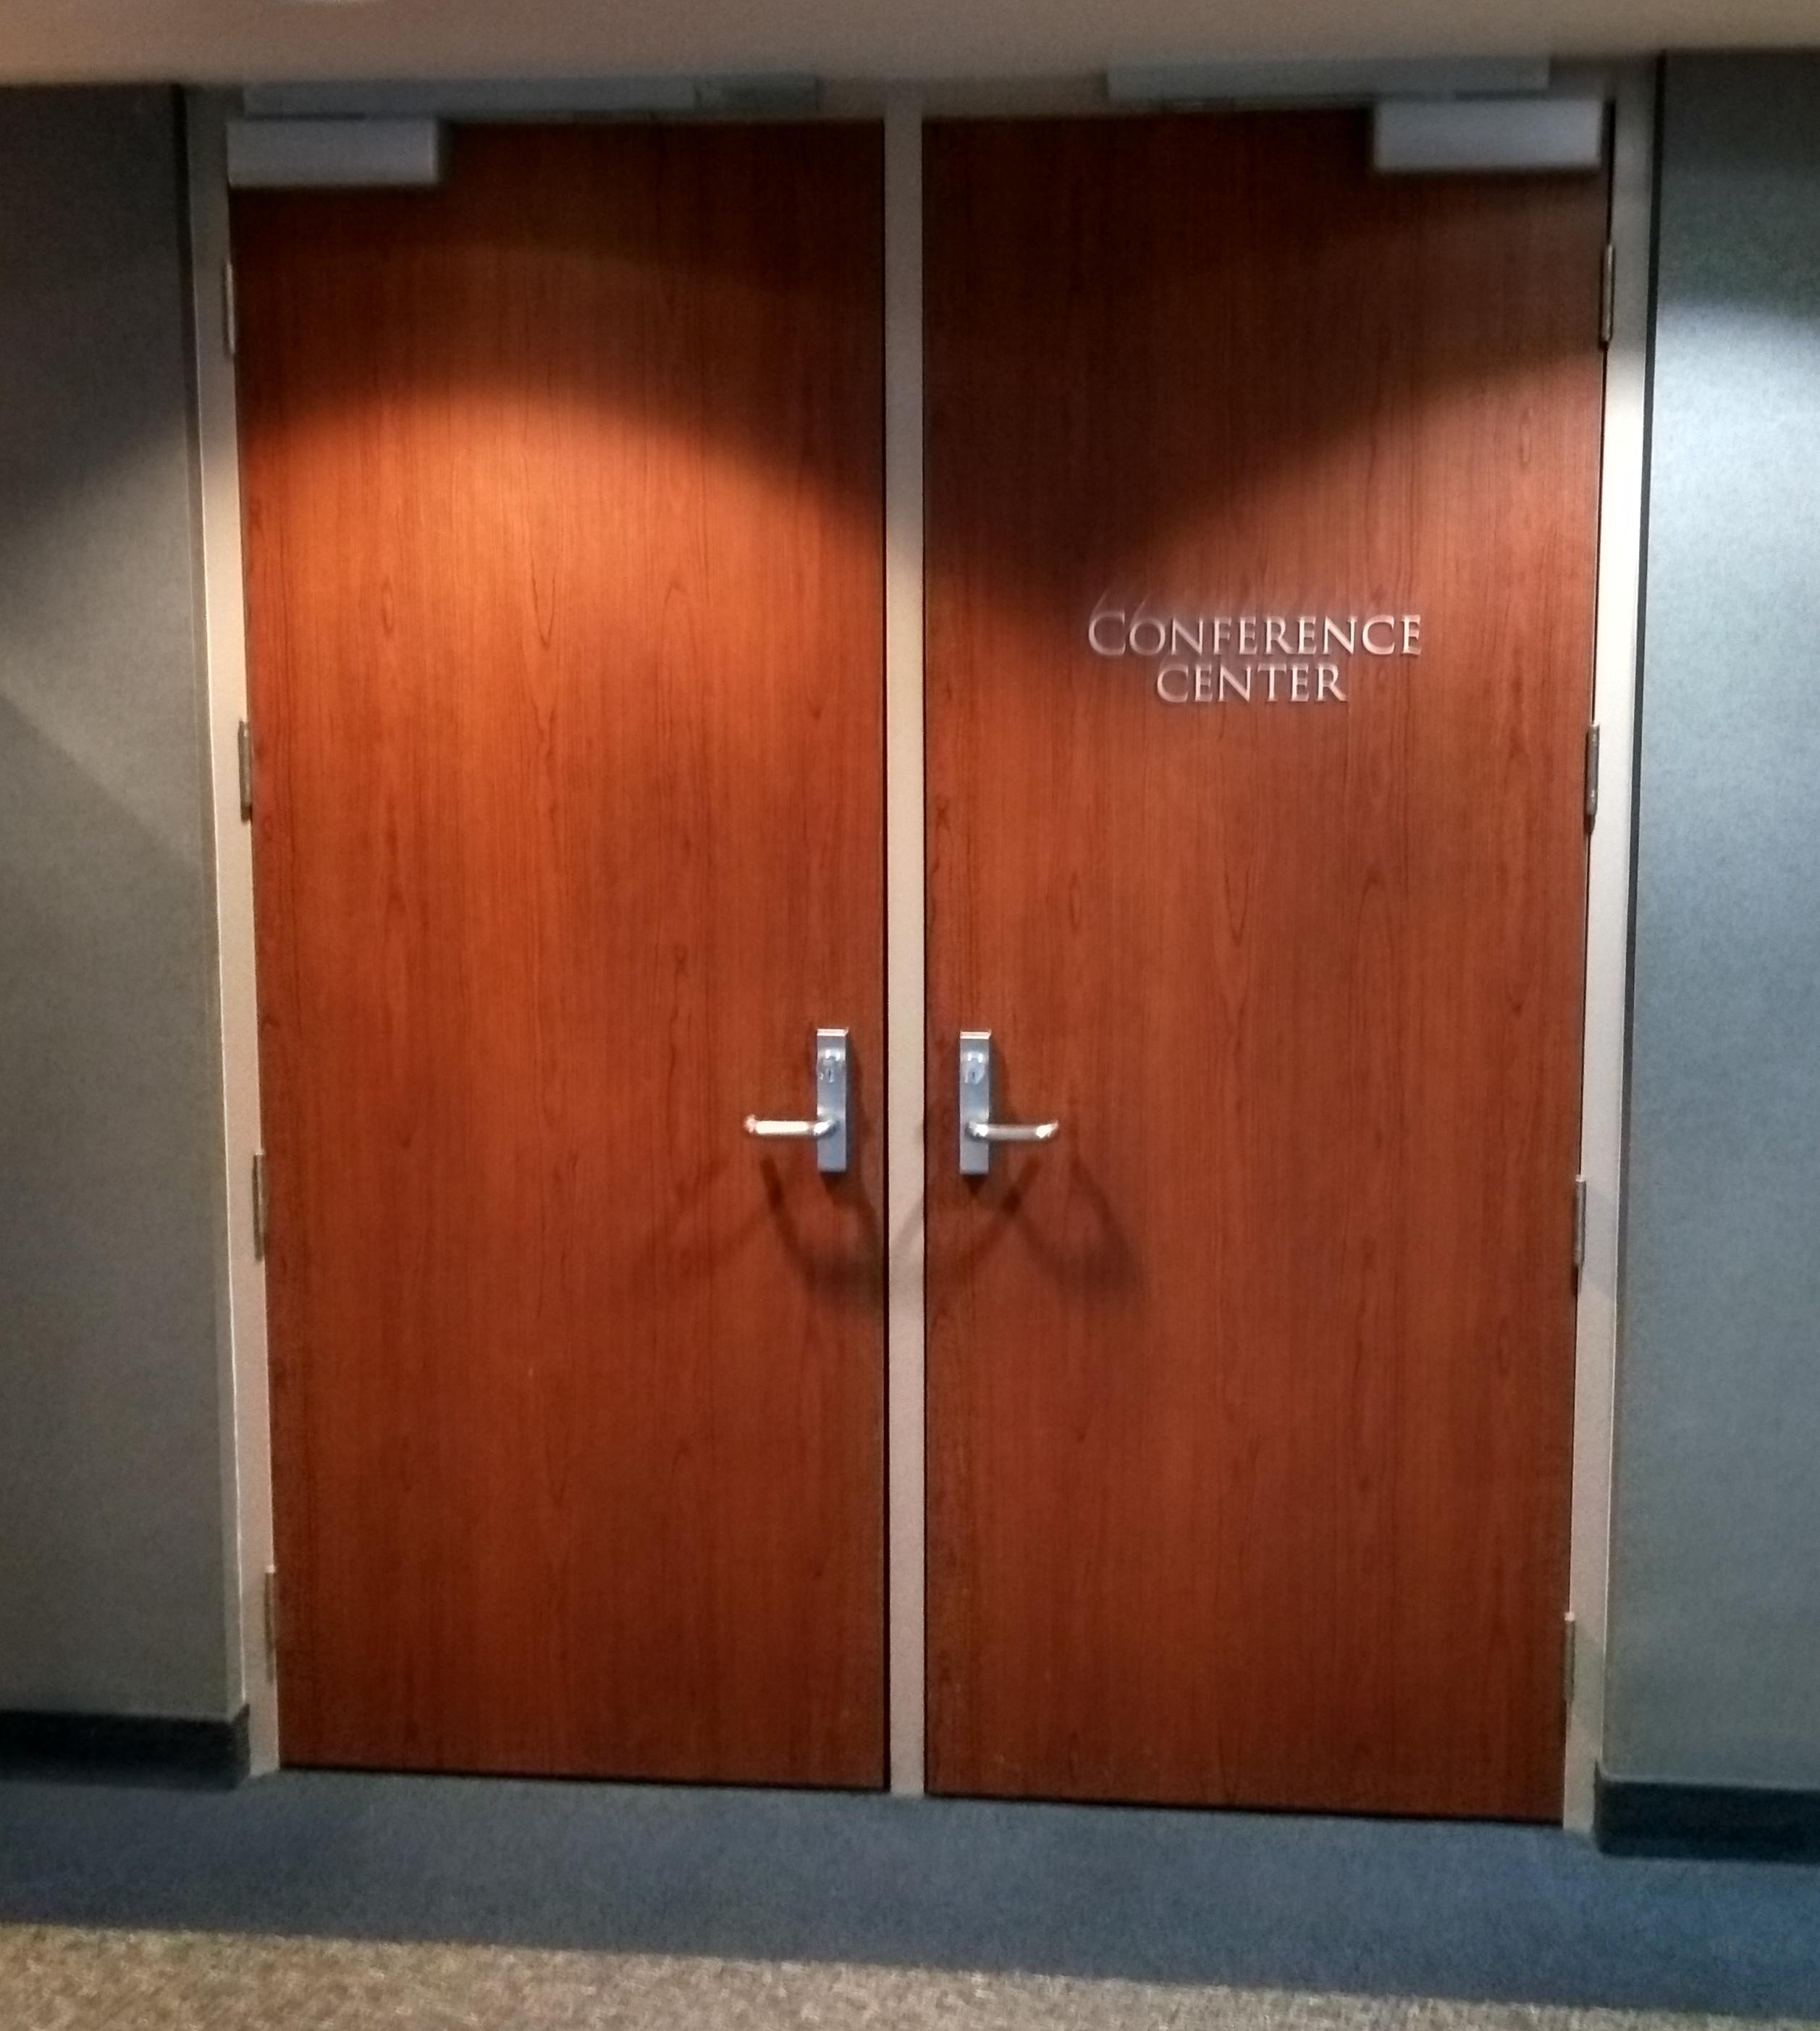door: (186, 58, 1658, 1843)
